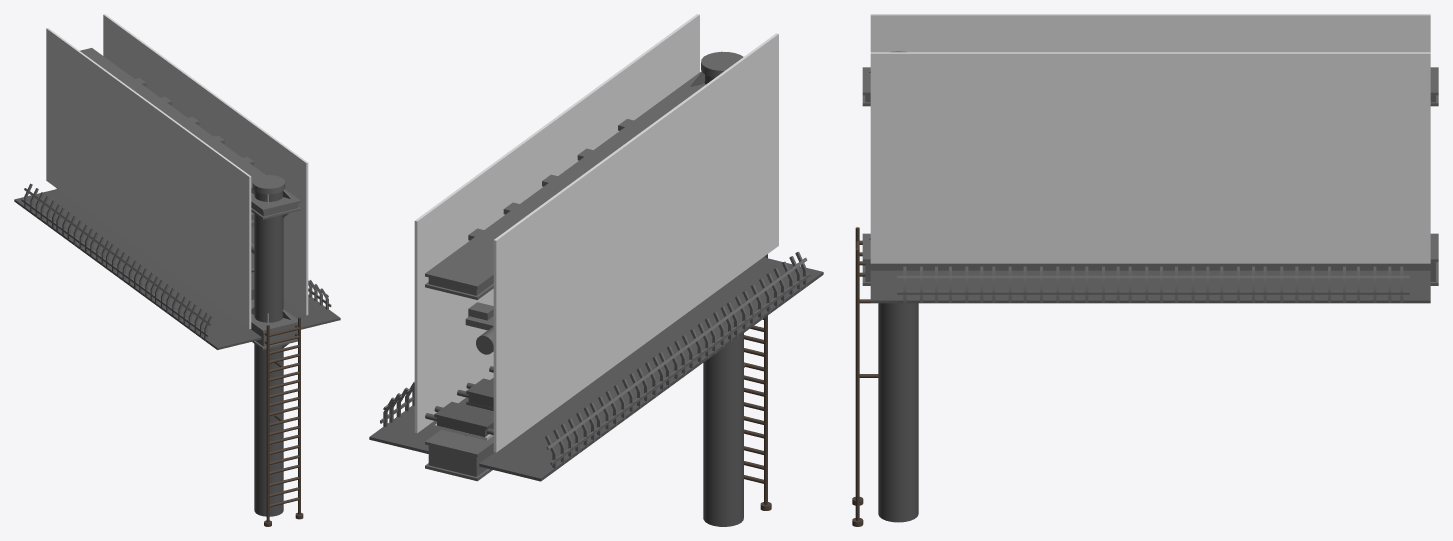
File: billboard_model_free_download.glb
3 renders of one model, left to right at view 1: azimuth 30°, elevation 25°; view 2: azimuth 150°, elevation 25°; view 3: azimuth 270°, elevation 25°, orthographic. The views are drawn at different scales.
Visible parts, largest first — view 1: pCylinder66; view 2: pCylinder66; view 3: pCylinder66.
Part boxes in pixels (box(x1,y1,x2,y2)): pCylinder66: box(14, 14, 340, 526); pCylinder66: box(369, 14, 823, 526); pCylinder66: box(852, 14, 1438, 526).
Bounding box in the file's own units: 0.0359 × 0.0965 × 0.1068.
